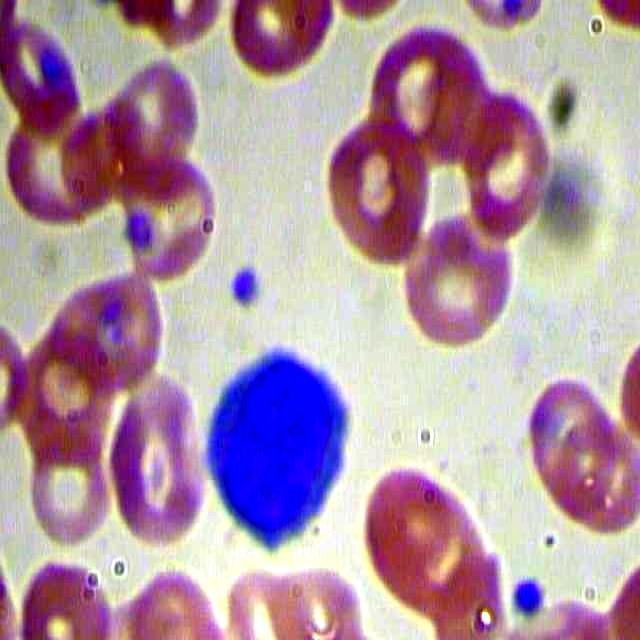Platelets: (225, 258, 268, 310), (510, 573, 549, 620)
RBC: (362, 459, 496, 617), (106, 376, 215, 545), (323, 116, 438, 268), (402, 203, 518, 345), (33, 268, 165, 391), (115, 148, 218, 285), (524, 367, 617, 516), (462, 91, 554, 237), (24, 408, 110, 547), (226, 1, 337, 86)
WBC: (192, 341, 363, 556)
